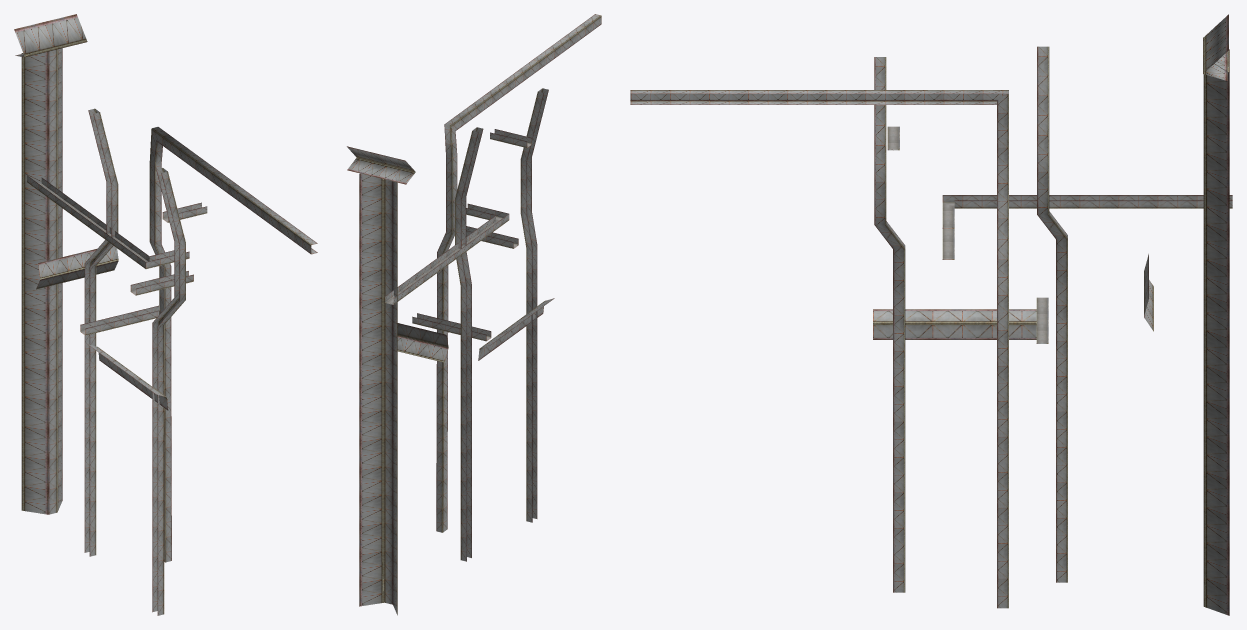
File: EQP_GIRDERS001.FBX
3 views of the same model, side by side, from view 1: azimuth 30°, elevation 25°; view 2: azimuth 150°, elevation 25°; view 3: azimuth 270°, elevation 25° (orthographic). The views are drawn at different scales.
Parts seen in each view (by area): view 1: GIRDERS001; view 2: GIRDERS001; view 3: GIRDERS001.
Part boxes in pixels (<box>): GIRDERS001: <box>14,14,317,615</box>; GIRDERS001: <box>347,14,601,615</box>; GIRDERS001: <box>630,14,1232,615</box>.
Bounding box in the file's own units: 1377 × 8100 × 7709.
